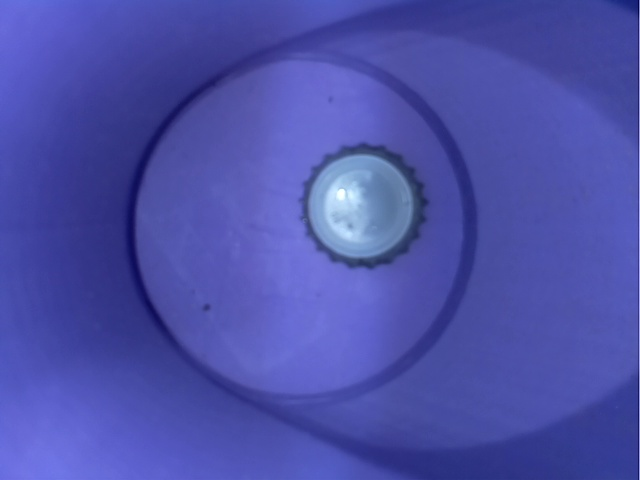capsule: (286, 123, 443, 274)
